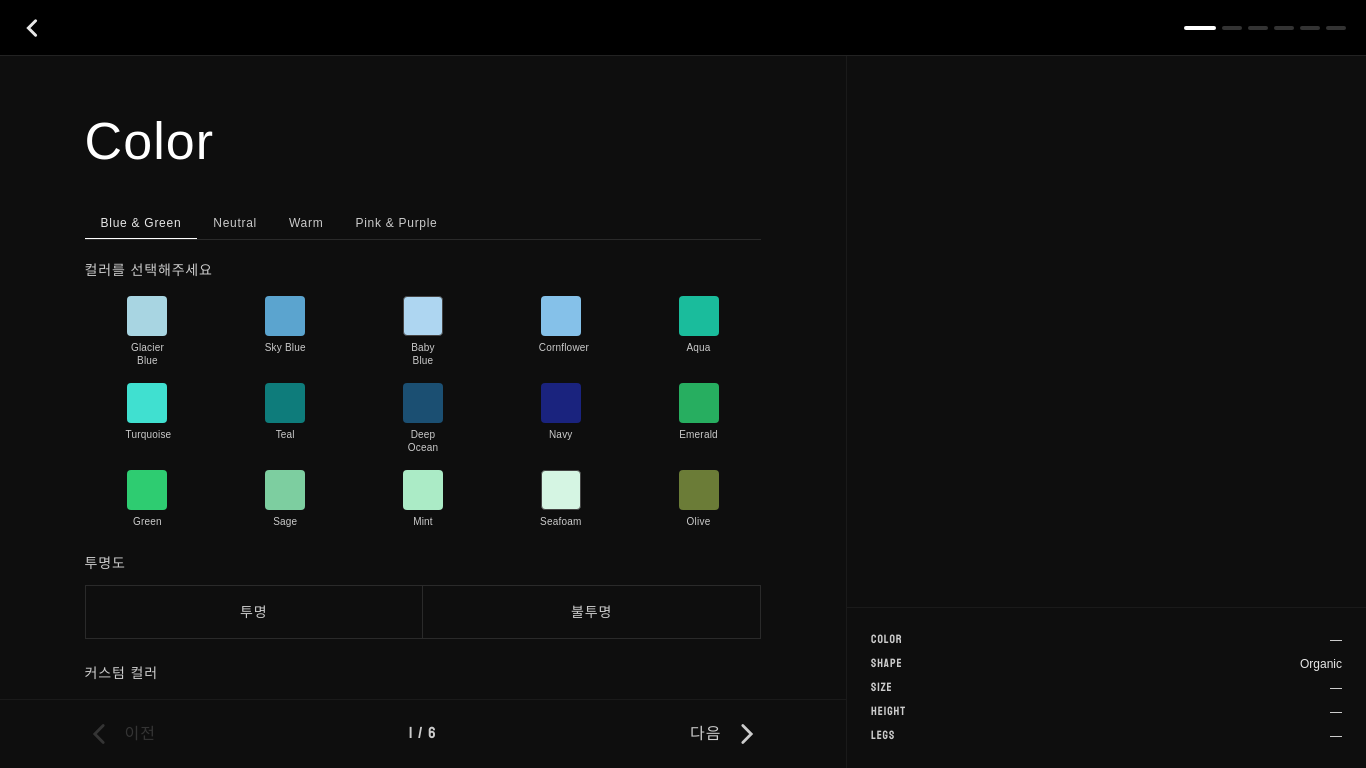
CommissionClient › Wood + Pedestal 선택 시 요약에 "Wood · Pedestal"이 표시된다
Click the button "다음": (726, 734) [690,720,761,748]
Wait 200 ms
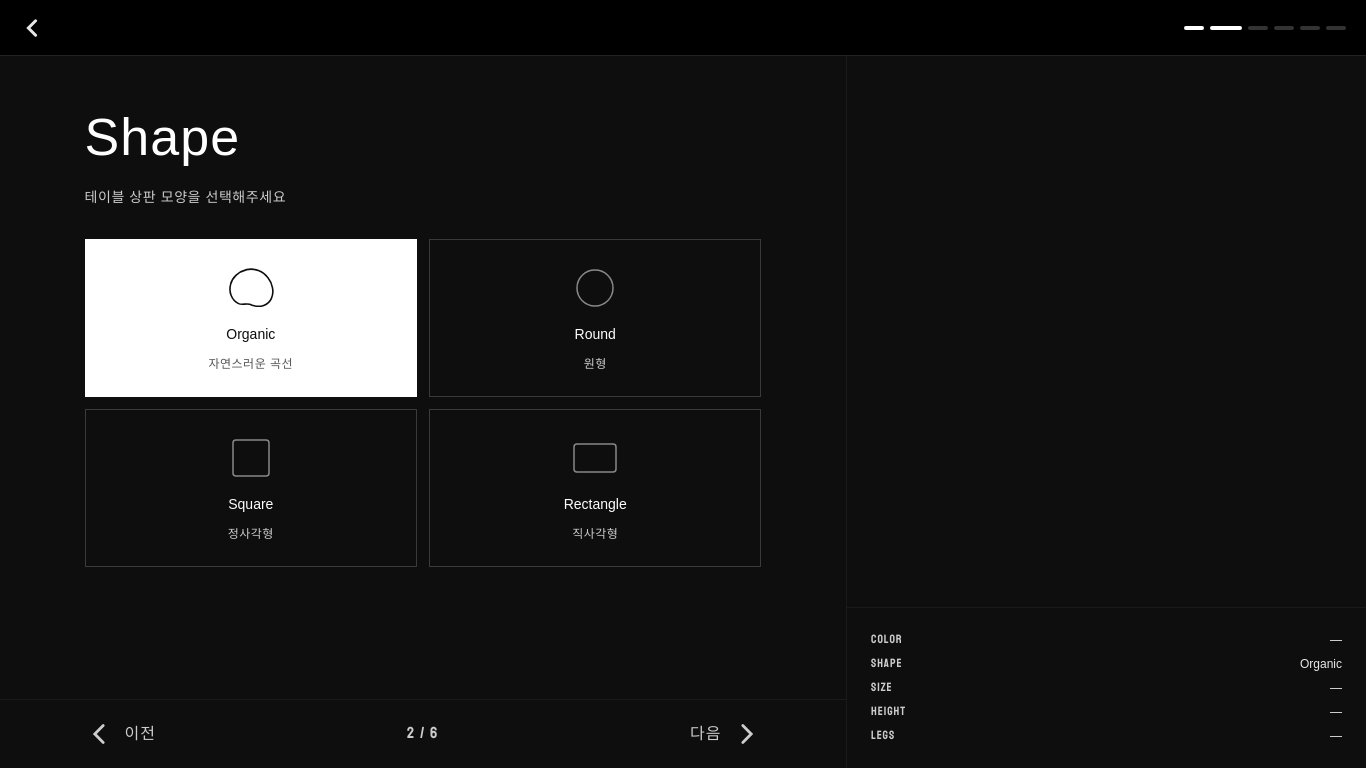
Click the button "다음": (726, 734) [690,720,761,748]
Wait 200 ms
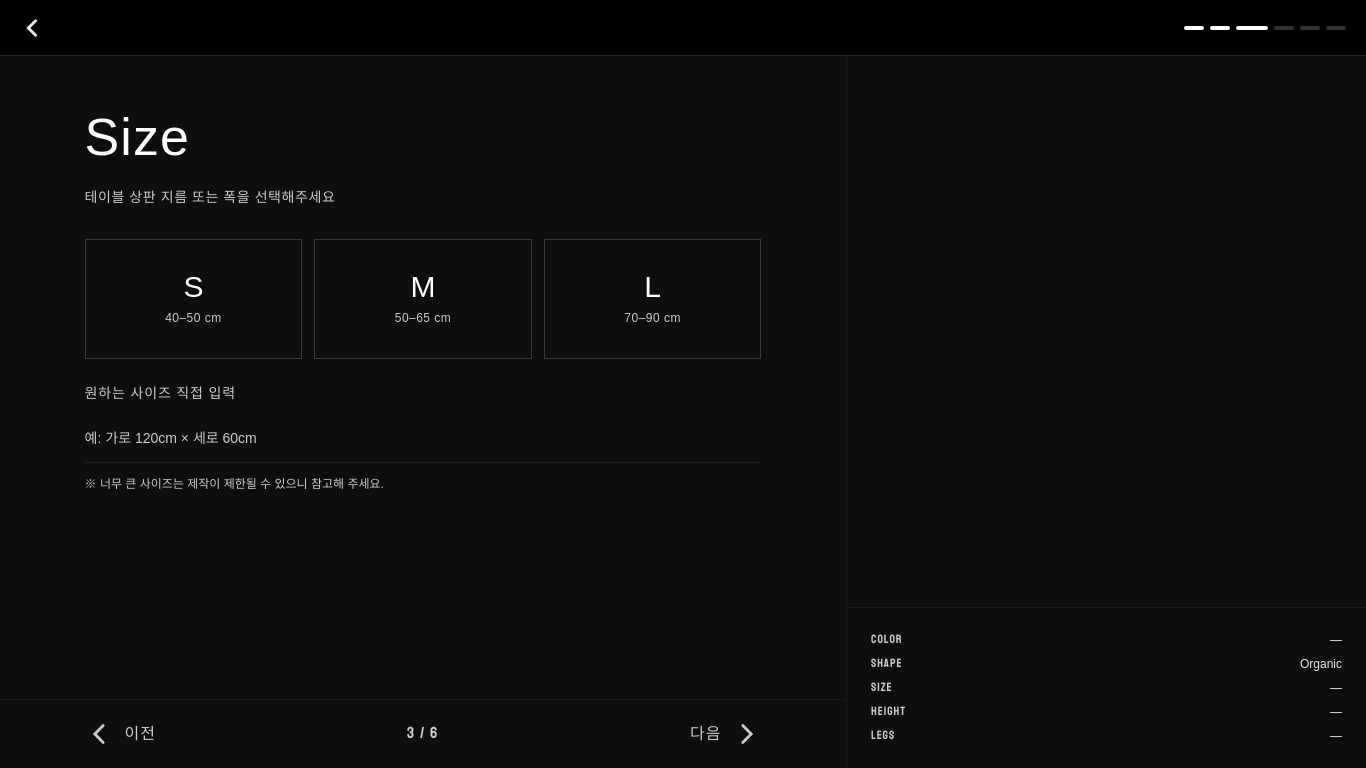
Click the button "다음": (726, 734) [690,720,761,748]
Wait 200 ms
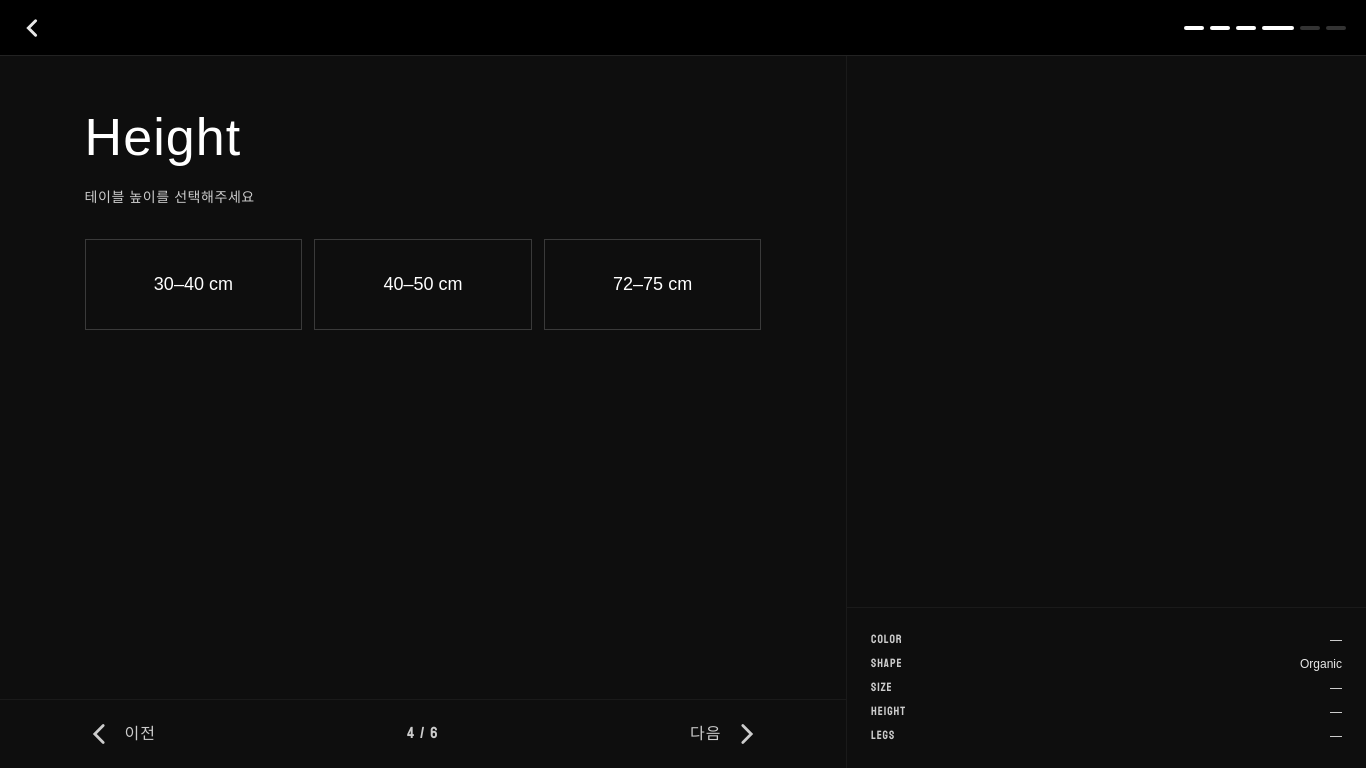
Click the button "다음": (726, 734) [690,720,761,748]
Wait 200 ms
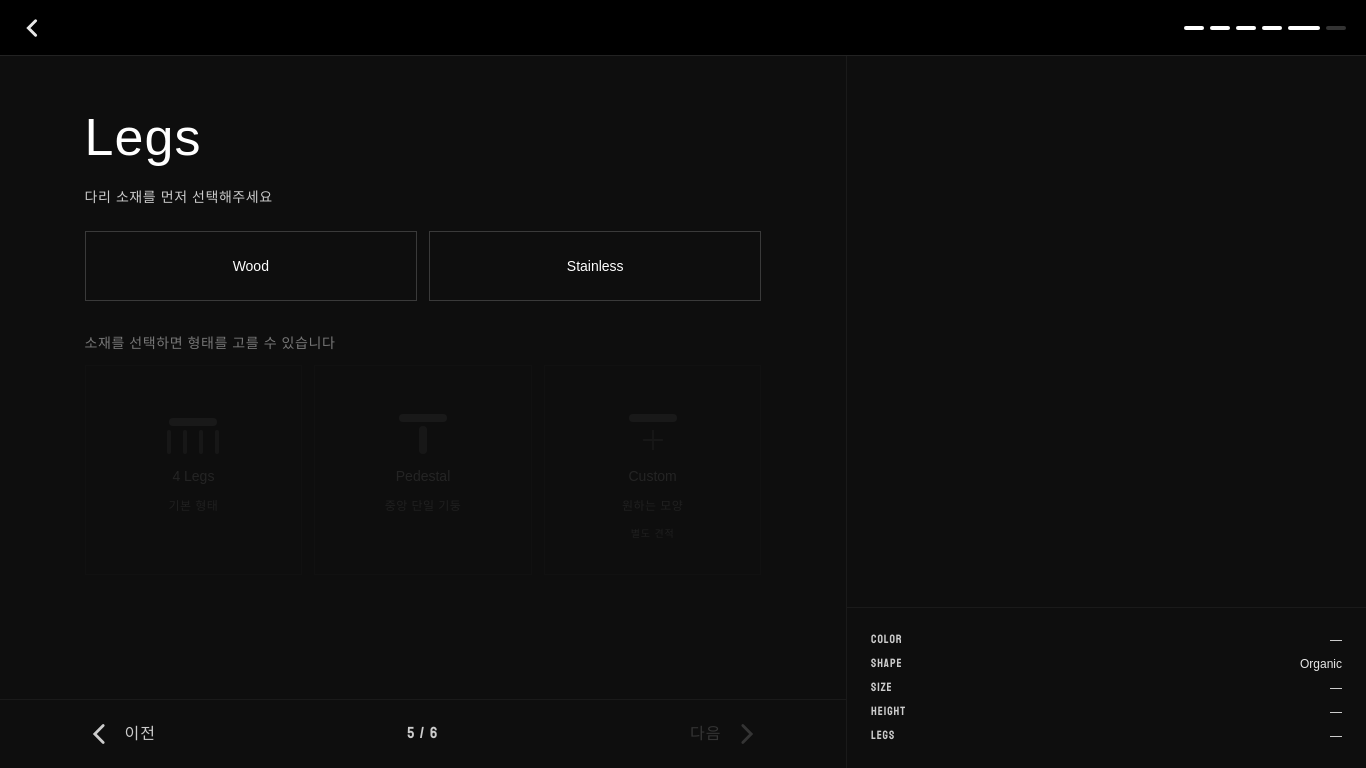
Click the button "Wood": (251, 266) [85,231,417,301]
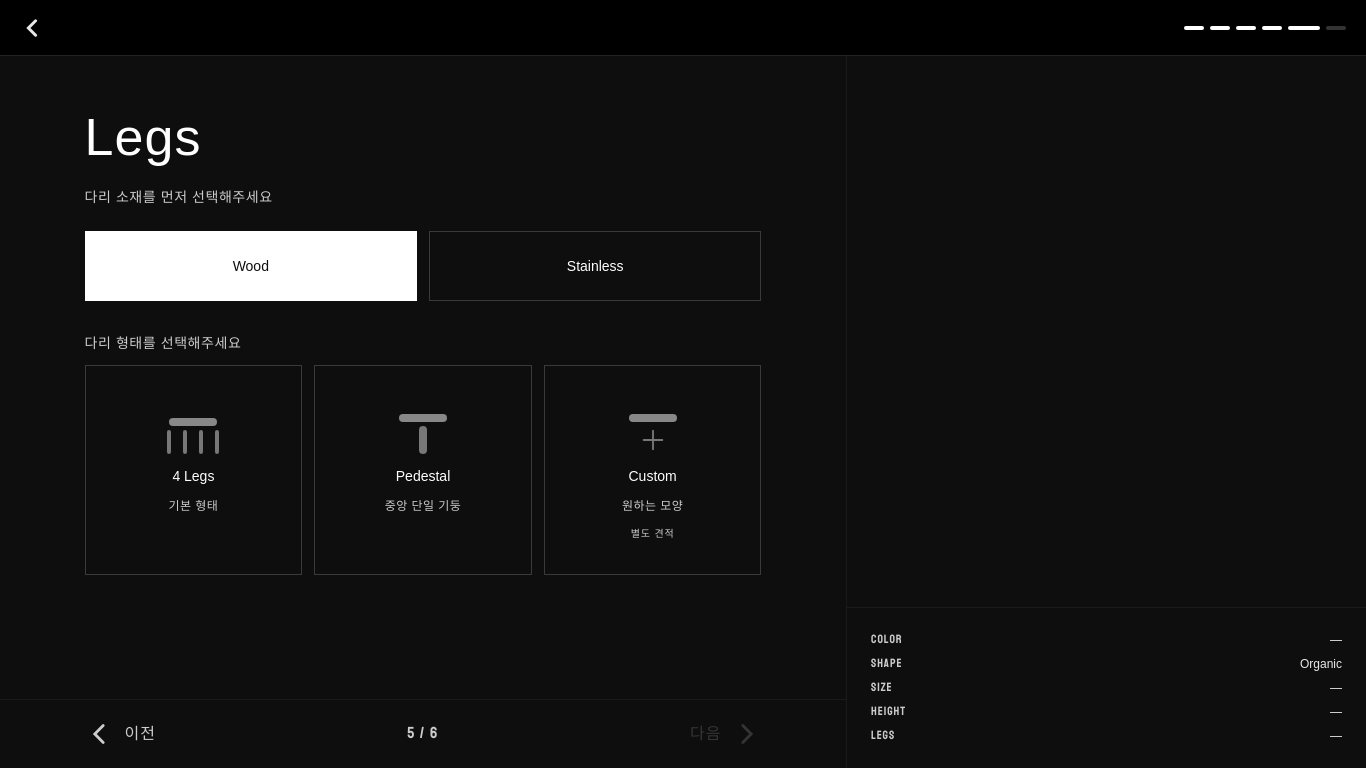
Click the button "Pedestal 중앙 단일 기둥": (423, 470) [314,365,532,575]
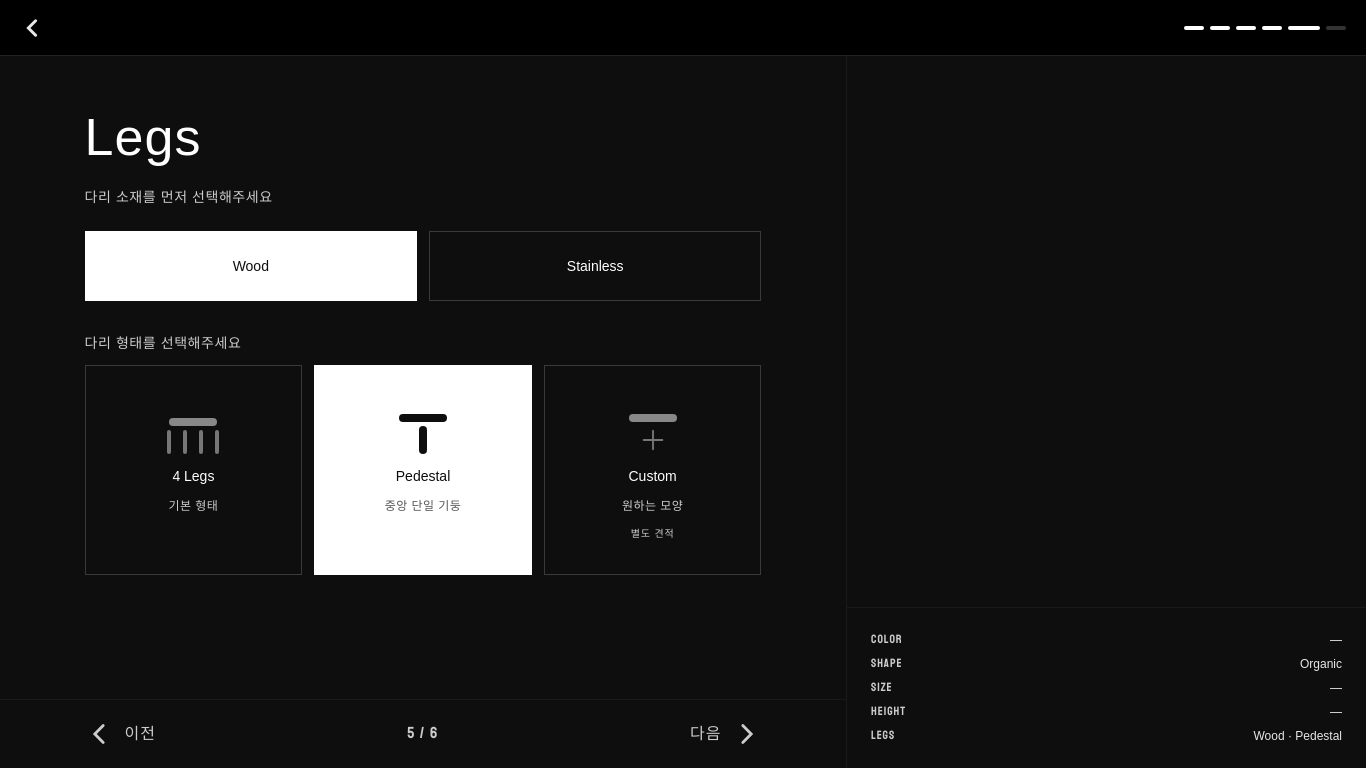
Now the text "Legs" shows "Wood · Pedestal", box [1254,729,1342,743]
